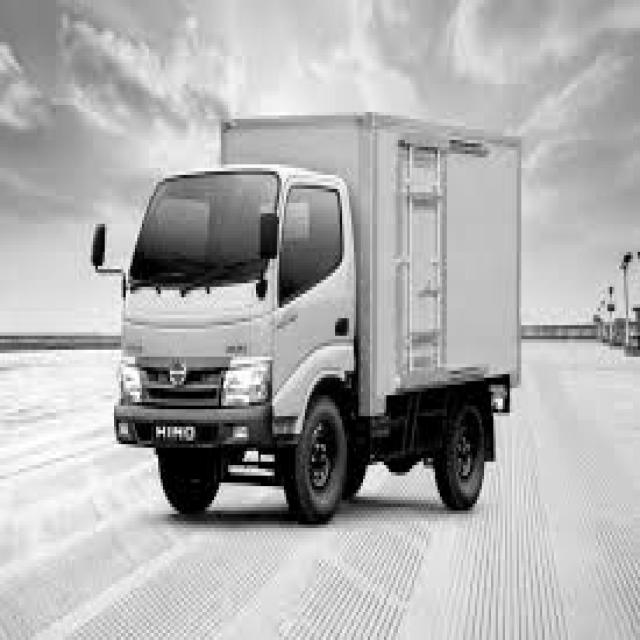truck: (77, 144, 377, 529)
